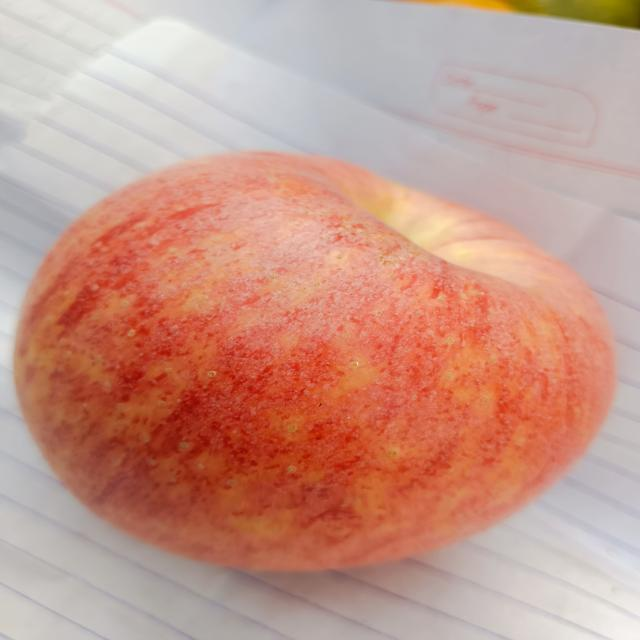Fresh Apple: (28, 165, 605, 572)
